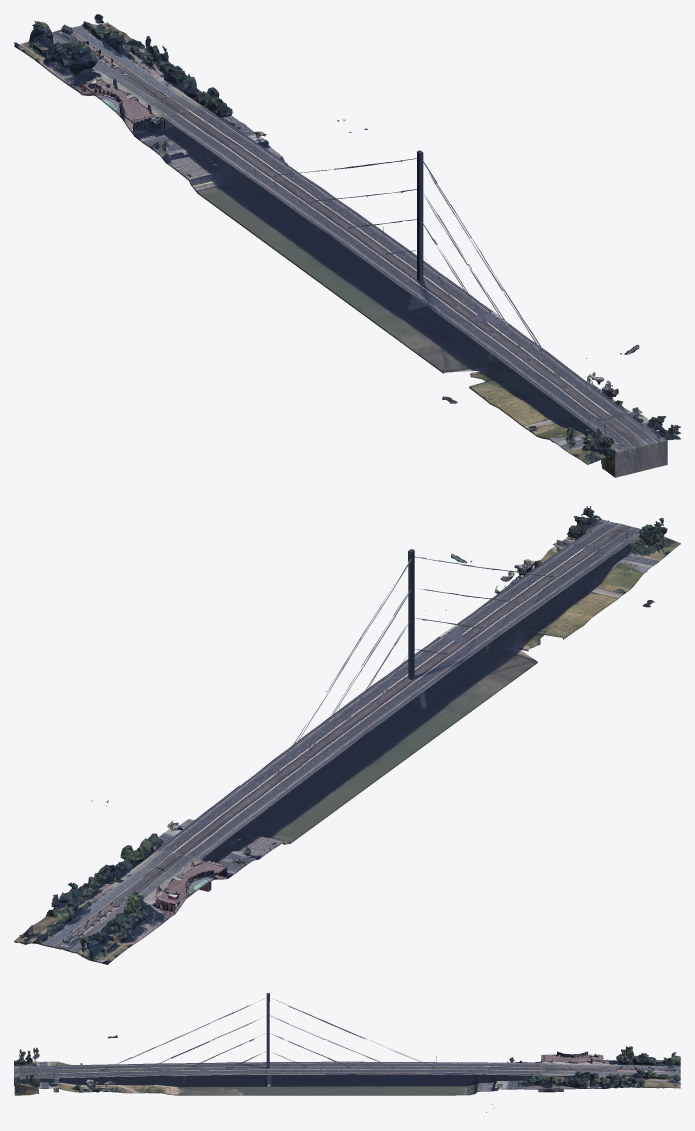
File: bridge2.gltf
The picture shows the model from 3 angles, top to bottom: view 1: azimuth 30°, elevation 25°; view 2: azimuth 150°, elevation 25°; view 3: azimuth 270°, elevation 25°; orthographic projection. The views are drawn at different scales.
Visible parts, largest first — view 1: BuildingMesh-00149.001, BuildingMesh-00153.001, BuildingMesh-00123.001, BuildingMesh-00139.001, BuildingMesh-00111.001, BuildingMesh-00155.001, BuildingMesh-00144.001, BuildingMesh-00131.001, BuildingMesh-00133.001, BuildingMesh-00107.001, BuildingMesh-00132.001, BuildingMesh-00145.001 (+5 smaller); view 2: BuildingMesh-00155.001, BuildingMesh-00111.001, BuildingMesh-00123.001, BuildingMesh-00153.001, BuildingMesh-00149.001, BuildingMesh-00139.001, BuildingMesh-00144.001, BuildingMesh-00131.001, BuildingMesh-00133.001, BuildingMesh-00132.001, BuildingMesh-00145.001, BuildingMesh-00107.001 (+5 smaller); view 3: BuildingMesh-00153.001, BuildingMesh-00123.001, BuildingMesh-00139.001, BuildingMesh-00149.001, BuildingMesh-00155.001, BuildingMesh-00144.001, BuildingMesh-00131.001, BuildingMesh-00111.001, BuildingMesh-00107.001, BuildingMesh-00132.001, BuildingMesh-00125.001, BuildingMesh-00145.001 (+7 smaller).
Part boxes in pixels (left/top/right/bottom): BuildingMesh-00149.001: left=149, top=117, right=287, bottom=207; BuildingMesh-00153.001: left=81, top=63, right=242, bottom=146; BuildingMesh-00123.001: left=419, top=311, right=560, bottom=400; BuildingMesh-00139.001: left=284, top=211, right=423, bottom=305; BuildingMesh-00111.001: left=486, top=362, right=646, bottom=442; BuildingMesh-00155.001: left=14, top=14, right=174, bottom=94; BuildingMesh-00144.001: left=217, top=164, right=355, bottom=256; BuildingMesh-00131.001: left=351, top=268, right=480, bottom=348; BuildingMesh-00133.001: left=554, top=421, right=634, bottom=477; BuildingMesh-00107.001: left=601, top=414, right=680, bottom=472; BuildingMesh-00132.001: left=398, top=261, right=492, bottom=355; BuildingMesh-00145.001: left=245, top=170, right=338, bottom=223; BuildingMesh-00155.001: left=14, top=881, right=175, bottom=964; BuildingMesh-00111.001: left=494, top=539, right=647, bottom=627; BuildingMesh-00123.001: left=439, top=589, right=579, bottom=680; BuildingMesh-00153.001: left=85, top=833, right=242, bottom=913; BuildingMesh-00149.001: left=158, top=785, right=310, bottom=867; BuildingMesh-00139.001: left=306, top=685, right=444, bottom=779; BuildingMesh-00144.001: left=240, top=735, right=377, bottom=828; BuildingMesh-00131.001: left=389, top=644, right=495, bottom=730; BuildingMesh-00133.001: left=601, top=525, right=680, bottom=569; BuildingMesh-00132.001: left=372, top=637, right=512, bottom=708; BuildingMesh-00145.001: left=263, top=741, right=348, bottom=796; BuildingMesh-00107.001: left=562, top=506, right=633, bottom=548; BuildingMesh-00153.001: left=523, top=1051, right=602, bottom=1092; BuildingMesh-00123.001: left=131, top=1063, right=210, bottom=1095; BuildingMesh-00139.001: left=288, top=1061, right=367, bottom=1095; BuildingMesh-00149.001: left=445, top=1057, right=523, bottom=1095; BuildingMesh-00155.001: left=602, top=1054, right=680, bottom=1088; BuildingMesh-00144.001: left=367, top=1062, right=445, bottom=1095; BuildingMesh-00131.001: left=210, top=1062, right=288, bottom=1095; BuildingMesh-00111.001: left=53, top=1061, right=131, bottom=1093; BuildingMesh-00107.001: left=14, top=1070, right=53, bottom=1095; BuildingMesh-00132.001: left=210, top=1062, right=288, bottom=1095; BuildingMesh-00125.001: left=210, top=1012, right=288, bottom=1067; BuildingMesh-00145.001: left=367, top=1062, right=445, bottom=1073.
Size of the model in its own units: 4.02 by 2.55 by 16.48.
